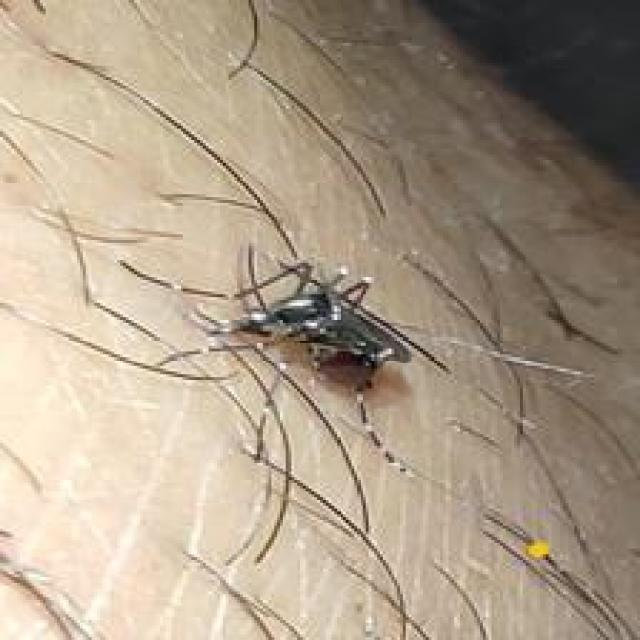Aedes albopictus: (196, 246, 453, 474)
